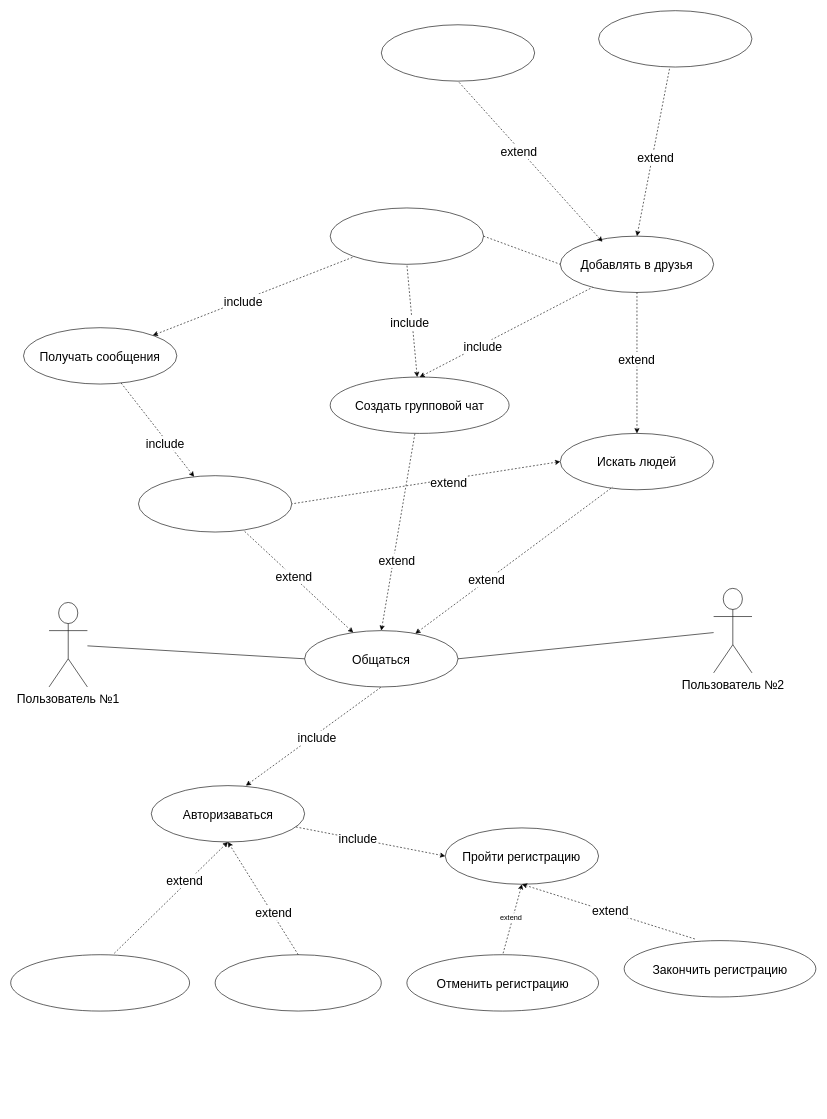
The diagram is 827 pixels wide and 1119 high, and some of its shapes have lost their labels. The centre of each missing label's shape, as x and y in pixels:
"Отклонить" belongs at pixel 675 38.
"Отменить авторизацию" belongs at pixel 100 982.
"Отправлять сообщения" belongs at pixel 215 503.
"Получать оповещения" belongs at pixel 407 235.
"Принять" belongs at pixel 458 52.
"Пройти авторизацию" belongs at pixel 298 982.
